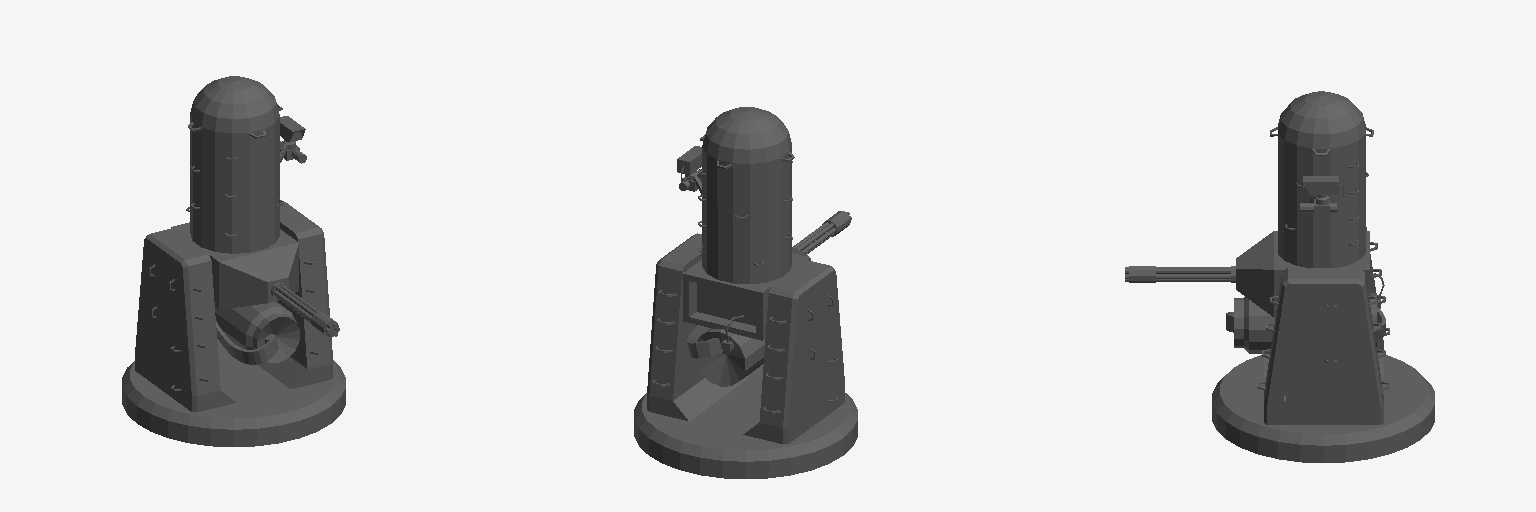
Rendered from phalanx_ciws_OBJ.obj.
3 renders of one model, left to right at view 1: azimuth 30°, elevation 25°; view 2: azimuth 150°, elevation 25°; view 3: azimuth 270°, elevation 25°, orthographic.
Parts seen in each view (by area): view 1: phalanx_solcommand; view 2: phalanx_solcommand; view 3: phalanx_solcommand.
Part boxes in pixels (left/top/right/bottom): phalanx_solcommand: left=122, top=76, right=345, bottom=446; phalanx_solcommand: left=634, top=107, right=857, bottom=478; phalanx_solcommand: left=1125, top=91, right=1434, bottom=462.
Bounding box in the file's own units: 61 × 95.85 × 84.44.